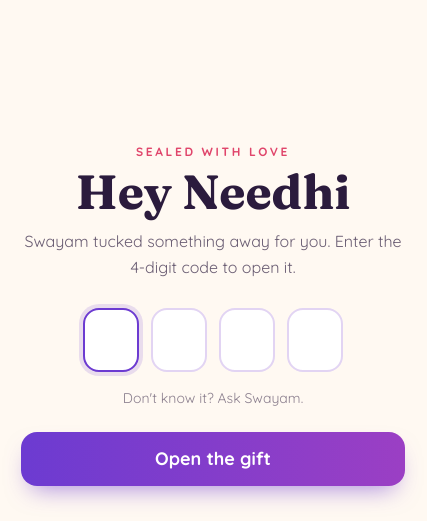
Test: PinLock › rejects a wrong PIN
Type "0" into the field named "Digit 1" at (111, 340), box [83, 308, 139, 372]
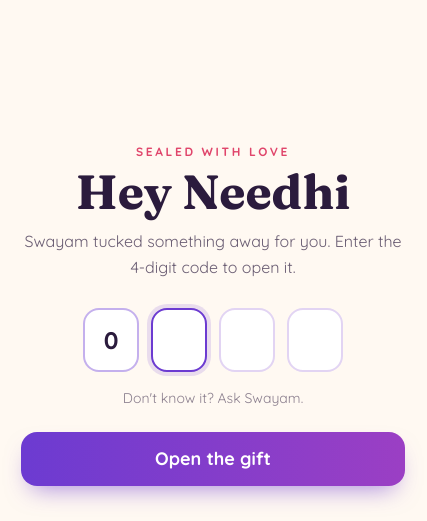
Type "0" into the field named "Digit 2" at (179, 340), box [151, 308, 207, 372]
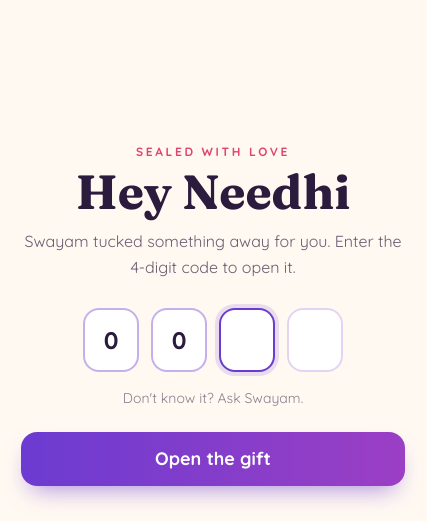
Type "0" into the field named "Digit 3" at (247, 340), box [219, 308, 275, 372]
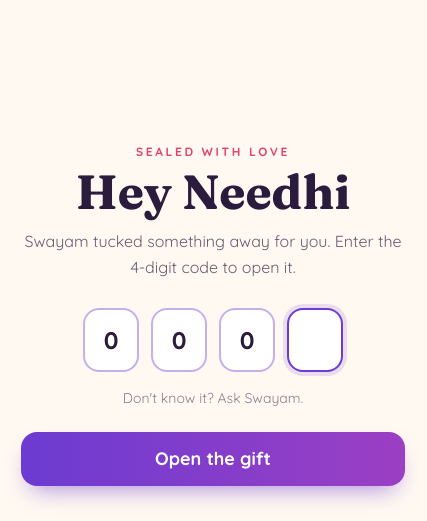
Type "0" into the field named "Digit 4" at (315, 340), box [287, 308, 343, 372]
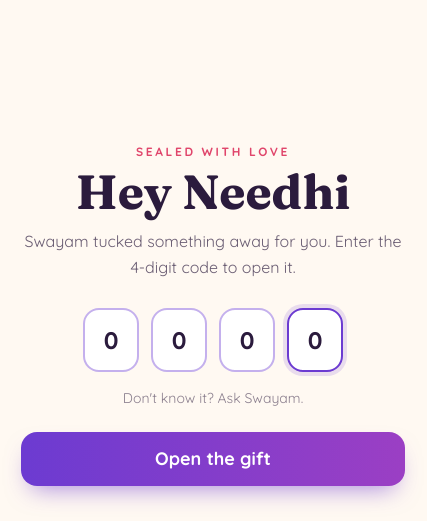
Click the button "Open the gift" at (213, 459), box [21, 432, 405, 486]
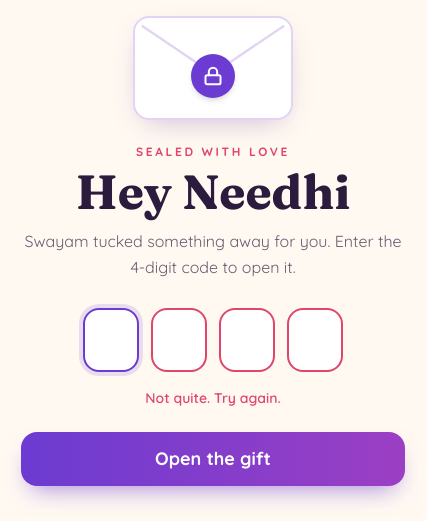
expect the text "Not quite. Try again." is shown: met, box [145, 388, 281, 412]
